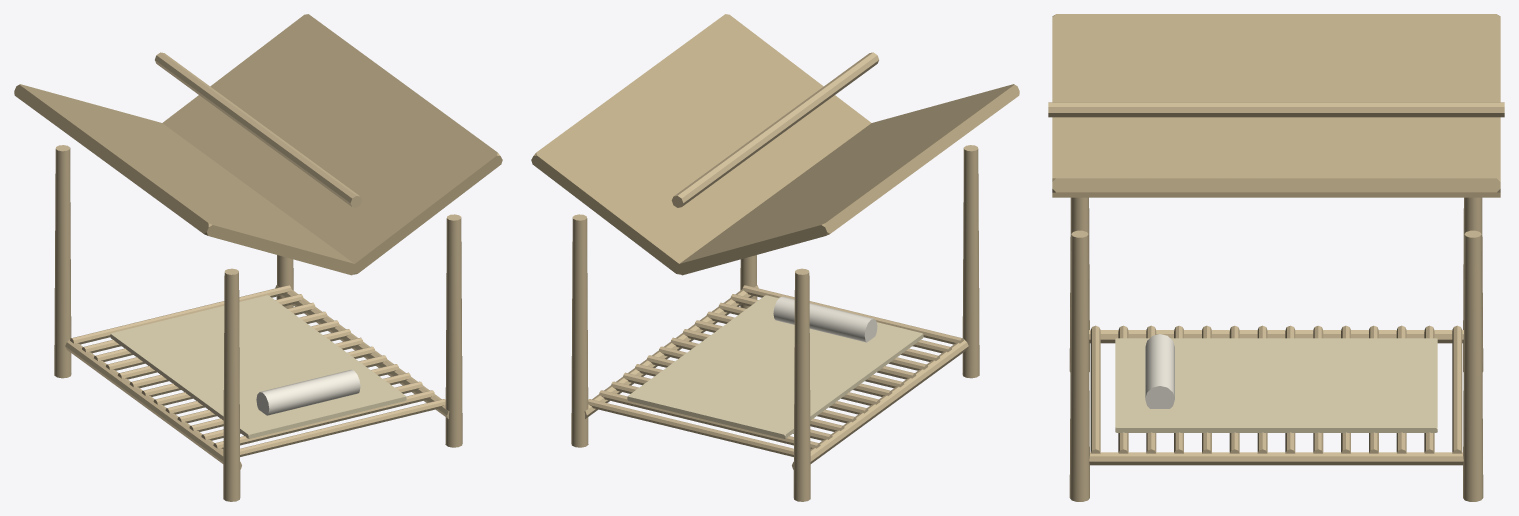
Rendered from island_shelter.glb.
3 renders of one model, left to right at view 1: azimuth 30°, elevation 25°; view 2: azimuth 150°, elevation 25°; view 3: azimuth 270°, elevation 25°, orthographic. The views are drawn at different scales.
Visible parts, largest first — view 1: ShelterThatch, ShelterBamboo, SleepingMat, PillowRoll; view 2: ShelterThatch, ShelterBamboo, SleepingMat, PillowRoll; view 3: ShelterThatch, ShelterBamboo, SleepingMat, PillowRoll.
Boxes of the visible parts, x1,y1,x2,y2 form: ShelterThatch: [14, 14, 502, 275]; ShelterBamboo: [54, 52, 462, 501]; SleepingMat: [110, 295, 406, 438]; PillowRoll: [256, 370, 360, 415]; ShelterThatch: [531, 14, 1019, 275]; ShelterBamboo: [571, 52, 979, 501]; SleepingMat: [627, 295, 923, 438]; PillowRoll: [773, 296, 877, 342]; ShelterThatch: [1052, 14, 1500, 197]; ShelterBamboo: [1048, 102, 1504, 501]; SleepingMat: [1115, 338, 1437, 432]; PillowRoll: [1145, 334, 1174, 408].
Bounding box in the file's own units: 2.55 × 2.38 × 2.9.
